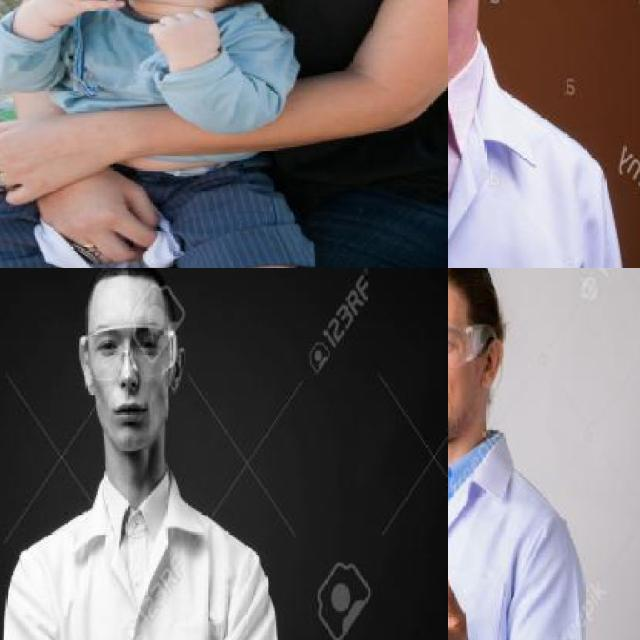No_Ear-Protection: (481, 337, 503, 388)
face_nomask: (80, 328, 171, 435), (448, 316, 462, 420)
glasses: (78, 320, 178, 391), (448, 317, 498, 377)
hand_noglove: (49, 176, 172, 264), (137, 5, 226, 60), (0, 107, 45, 210), (43, 0, 134, 24)
head_nohelmet: (83, 268, 172, 309), (448, 268, 491, 297)
person: (18, 0, 448, 268), (0, 268, 295, 640), (448, 0, 640, 268), (448, 268, 585, 640)
